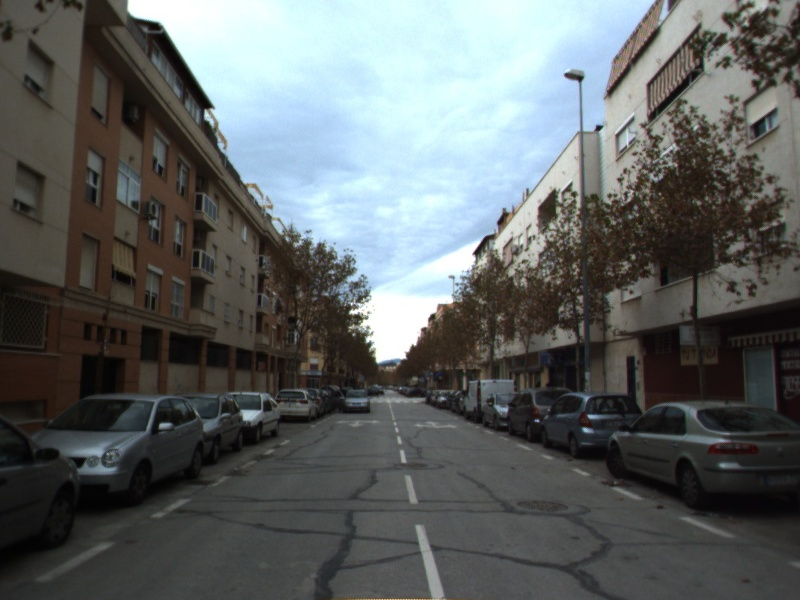STRAIGHT_LEFT_RIGHT: (412, 418, 459, 431)
